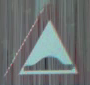Speed Breaker ahead: (8, 3, 80, 74)
